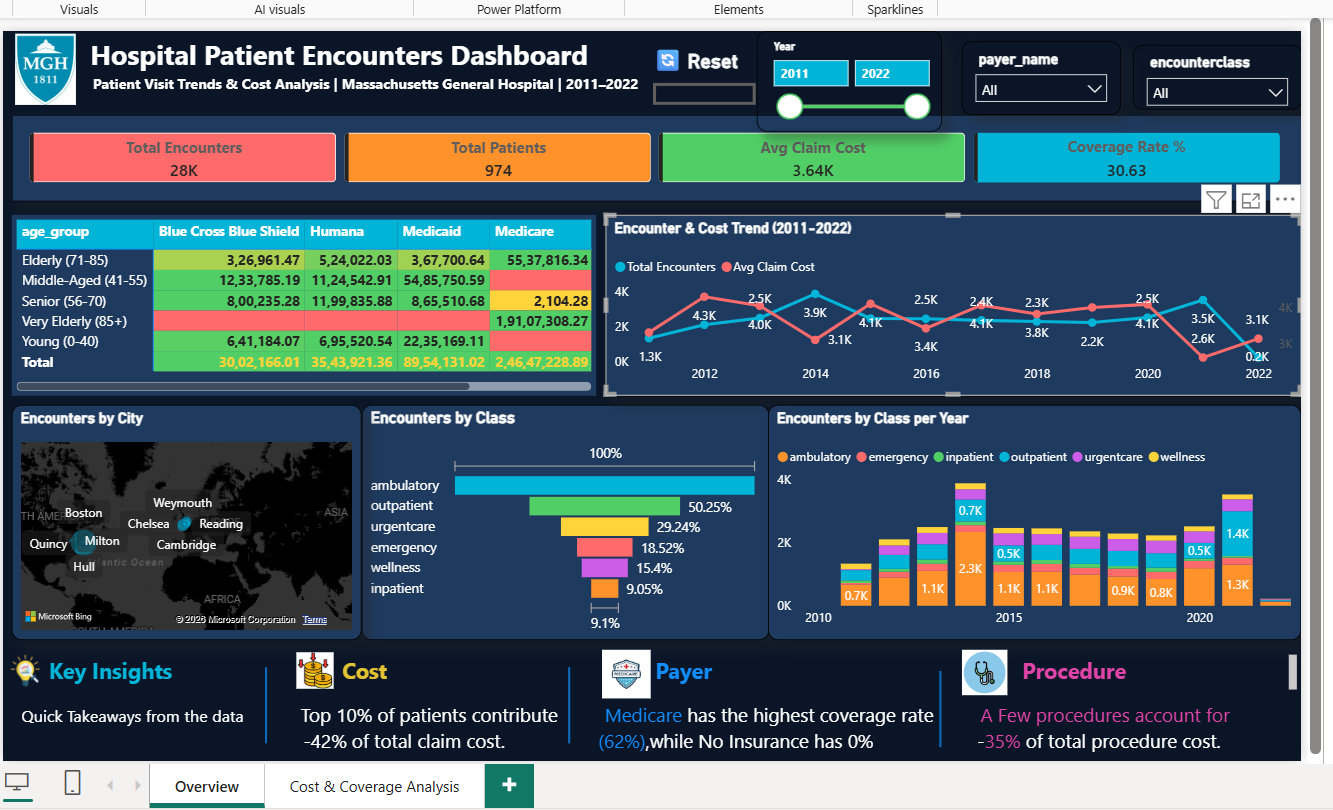

Layout of this report page (visuals, bound fields, positions):
{"tool":"powerbi","page":{"name":"Overview","canvas":[1280,720],"ordinal":0},"visuals":[{"type":"cardVisual","fields":{"Data":["Measures (2).Total Encounters","Measures (2).Total Patients","Measures (2).Avg Claim Cost","Measures (2).Coverage Rate %"]},"box":[8.5,82.2,1271.8,85.8],"z":0},{"type":"funnel","title":"Encounters by Class","fields":{"Category":["hospital_cleaned_final.encounterclass"],"Y":["Measures (2).Total Encounters"]},"box":[353,368.7,401.4,232.1],"z":1000},{"type":"lineChart","title":"Encounter & Cost Trend (2011-2022)","fields":{"Category":["hospital_cleaned_final.start.Variation.Date Hierarchy.Year"],"Y":["Measures (2).Total Encounters"],"Y2":["Measures (2).Avg Claim Cost"]},"box":[593.6,181.3,686.7,178.9],"z":2000},{"type":"columnChart","title":"Encounters by Class per Year","fields":{"Category":["hospital_cleaned_final.start.Variation.Date Hierarchy.Year"],"Y":["Measures (2).Total Encounters"],"Series":["hospital_cleaned_final.encounterclass"]},"box":[754.4,368.7,525.9,232.1],"z":3000},{"type":"map","title":"Encounters by City","fields":{"Category":["hospital_cleaned_final.city"],"Size":["Measures (2).Total Encounters"]},"box":[8.5,368.7,344.5,232.1],"z":4000},{"type":"textbox","box":[8,0,1056,73],"z":5000},{"type":"textbox","box":[83.8,37,548.2,35.7],"z":6000},{"type":"pivotTable","fields":{"Rows":["hospital_cleaned_final.age_group"],"Columns":["hospital_cleaned_final.payer_name"],"Values":["Sum(hospital_cleaned_final.total_claim_cost)"]},"box":[8.8,181.2,576.2,178.8],"z":7000},{"type":"slicer","fields":{"Values":["hospital_cleaned_final.encounterclass"]},"box":[1113.4,13.3,166.8,64.1],"z":8000},{"type":"slicer","fields":{"Values":["hospital_cleaned_final.start.Variation.Date Hierarchy.Year"]},"box":[742.3,0,182.5,99.1],"z":9000},{"type":"slicer","fields":{"Values":["hospital_cleaned_final.payer_name"]},"box":[945.4,9.7,157.2,72.5],"z":10000},{"type":"textbox","box":[0,609.3,1280.2,111.2],"z":11000},{"type":"image","box":[0,614.1,43.5,31.4],"z":12000},{"type":"image","box":[181.3,611.7,252.7,36.3],"z":13000},{"type":"image","box":[522.3,609.3,183.8,48.4],"z":14000},{"type":"image","box":[845,609.3,245.4,44.7],"z":15000},{"type":"shape","box":[221.2,627.4,75,75],"z":16000},{"type":"shape","box":[522.3,627.4,71.3,75],"z":17000},{"type":"shape","box":[887.3,631.1,73.7,75],"z":18000},{"type":"actionButton","title":"🔄 Reset ","box":[640.7,13,101.2,59.3],"z":19000},{"type":"image","box":[11.1,2.5,61.6,70.2],"z":20000}]}

Visuals, with their boxes on the page's 1280x720 design canvas (x1, y1, x2, y2). These are canvas units, not pixel positions in the 1333x810 screenshot, which may show the page scaled, cropped or inside an application window:
cardVisual - Measures (2).Total Encounters x Measures (2).Total Patients: [x1=8, y1=82, x2=1280, y2=168]
"Encounters by Class" funnel: [x1=353, y1=369, x2=754, y2=601]
"Encounter & Cost Trend (2011-2022)" lineChart: [x1=594, y1=181, x2=1280, y2=360]
"Encounters by Class per Year" columnChart: [x1=754, y1=369, x2=1280, y2=601]
"Encounters by City" map: [x1=8, y1=369, x2=353, y2=601]
textbox: [x1=8, y1=0, x2=1064, y2=73]
textbox: [x1=84, y1=37, x2=632, y2=73]
pivotTable - hospital_cleaned_final.age_group x hospital_cleaned_final.payer_name: [x1=9, y1=181, x2=585, y2=360]
slicer - hospital_cleaned_final.encounterclass: [x1=1113, y1=13, x2=1280, y2=77]
slicer - hospital_cleaned_final.start.Variation.Date Hierarchy.Year: [x1=742, y1=0, x2=925, y2=99]
slicer - hospital_cleaned_final.payer_name: [x1=945, y1=10, x2=1103, y2=82]
textbox: [x1=0, y1=609, x2=1280, y2=720]
image: [x1=0, y1=614, x2=44, y2=646]
image: [x1=181, y1=612, x2=434, y2=648]
image: [x1=522, y1=609, x2=706, y2=658]
image: [x1=845, y1=609, x2=1090, y2=654]
shape: [x1=221, y1=627, x2=296, y2=702]
shape: [x1=522, y1=627, x2=594, y2=702]
shape: [x1=887, y1=631, x2=961, y2=706]
"🔄 Reset " actionButton: [x1=641, y1=13, x2=742, y2=72]
image: [x1=11, y1=2, x2=73, y2=73]
